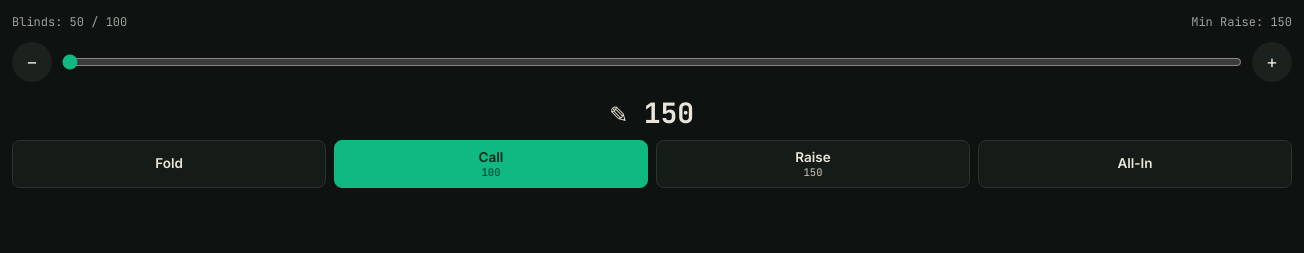
Test: amount selection › hides exact numeric entry until the amount display is tapped
The image size is (1304, 253).
Click the button with test id "amount-display" at (652, 112), box [12, 92, 1292, 132]
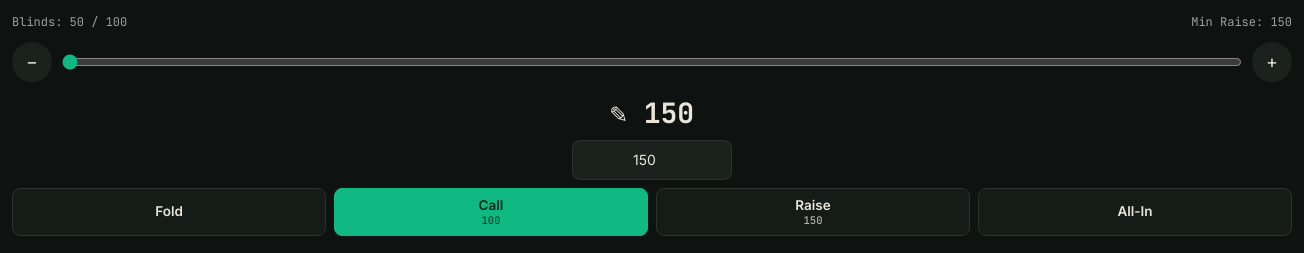
Now the number field is shown, box [572, 140, 732, 180]
